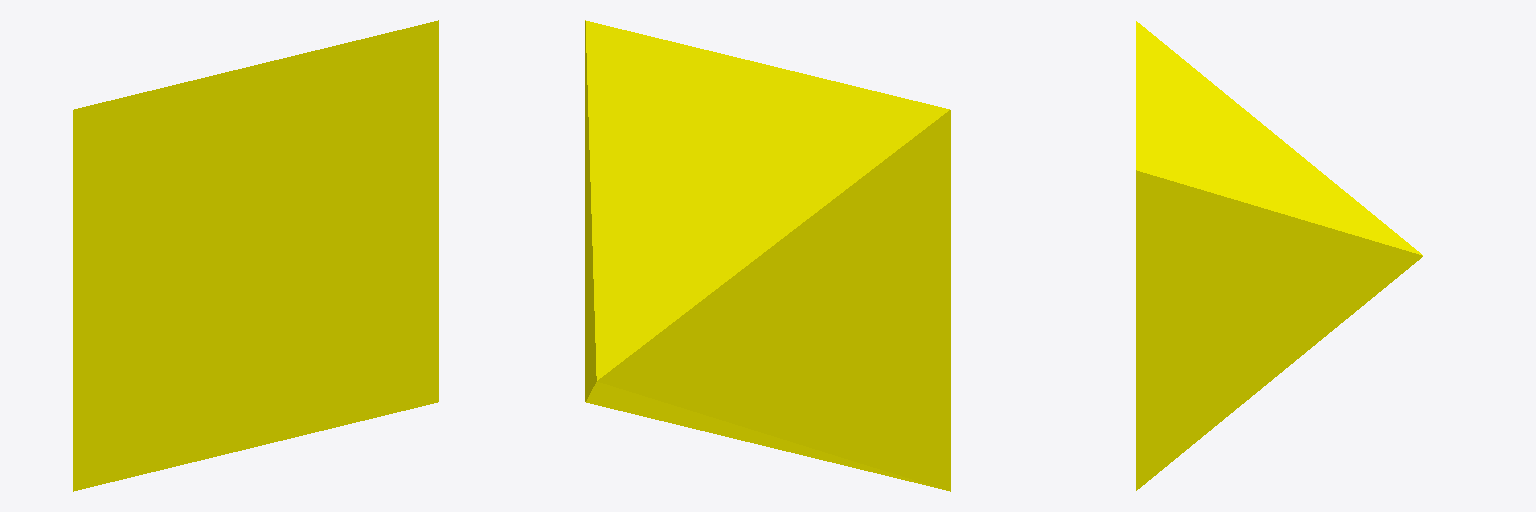
robot.urdf — urdf_robot:
<?xml version="0.0" ?>
<robot name="urdf_robot">
  <link name="baseLink">
  	<contact>
      <rolling_friction value="0.03"/>
      <spinning_friction value="0.03"/>
    </contact>

    <inertial>
      <origin rpy="0 0 0" xyz="0 0 0"/>
       <mass value="0.0"/>
       <inertia ixx="0" ixy="0" ixz="0" iyy="0" iyz="0" izz="0"/>
    </inertial>
    <visual>
      <origin rpy="0 0 0" xyz="0 -0.5 0"/>
      <geometry>
				<mesh filename="Pyramid Icon obj.obj" scale="0.5 0.5 0.5"/>      
      </geometry>
      <material name="yellow">
        <color rgba="1 0.976 0 1"/>
        <specular rgb="1 1 1"/>
      </material>
    </visual>
    <!-- <collision>
      <origin rpy="0 0 0" xyz="0 0 0"/>
      <geometry>
	 <sphere radius="0.5"/>
      </geometry>
    </collision> -->
  </link>
</robot>

--- What the picture shows (computed from the rendered views, not written in the file) ---
3 views of the same robot in one strip: view 1: azimuth 30°, elevation 25°; view 2: azimuth 150°, elevation 25°; view 3: azimuth 270°, elevation 25° (orthographic).
Robot: urdf_robot — 1 links, 0 joints (none); root link baseLink; default pose: every joint at zero.
Visible links, largest first — view 1: baseLink; view 2: baseLink; view 3: baseLink.
Link boxes in pixels (x1,y1,x2,y2): baseLink: (73,20,438,491); baseLink: (585,20,950,491); baseLink: (1136,21,1422,490).
Size in the robot's own frame: 1 by 0.813 by 1 metres.
Meshes: 1 distinct files referenced, 1 mesh visuals loaded (1 OBJ).